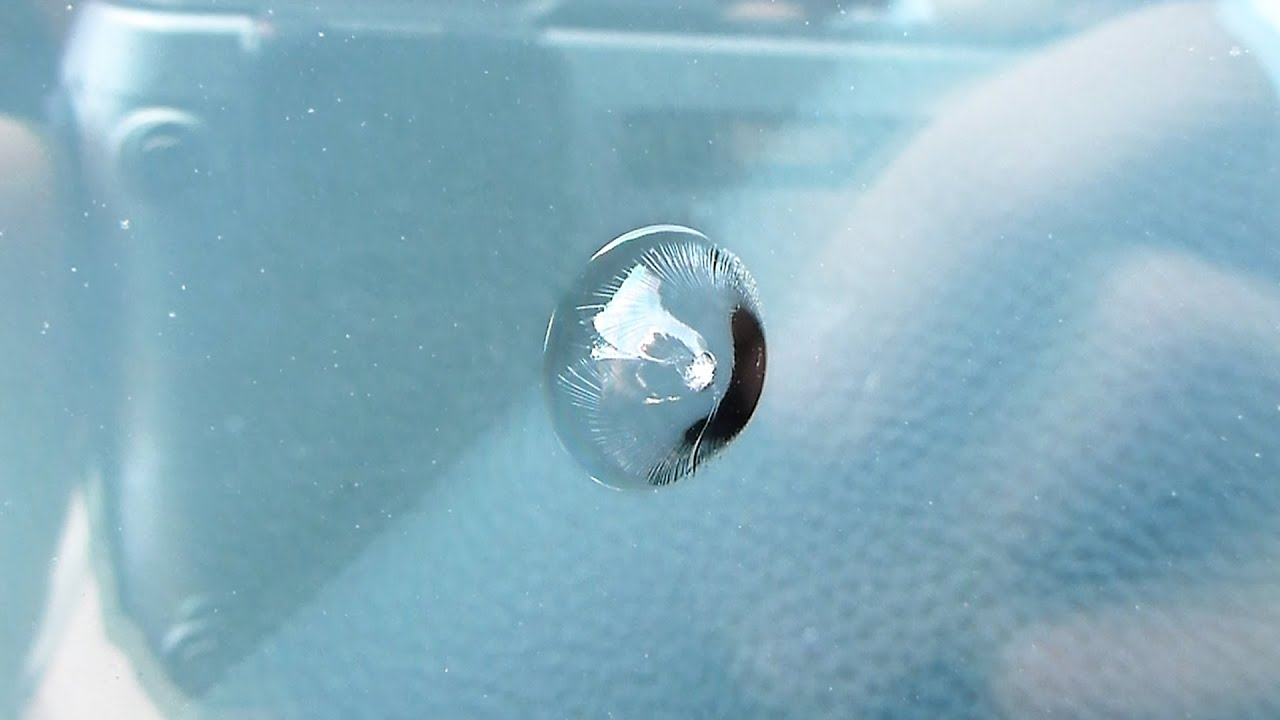bullseye: (490, 196, 796, 513)
